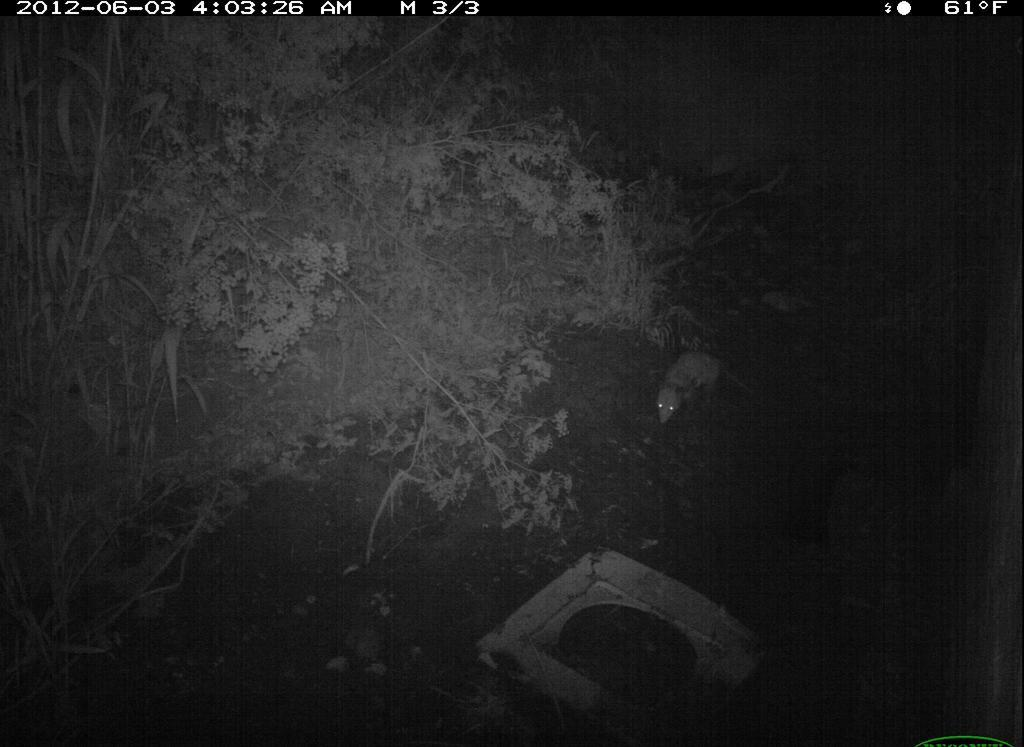opossum: (651, 333, 749, 449)
